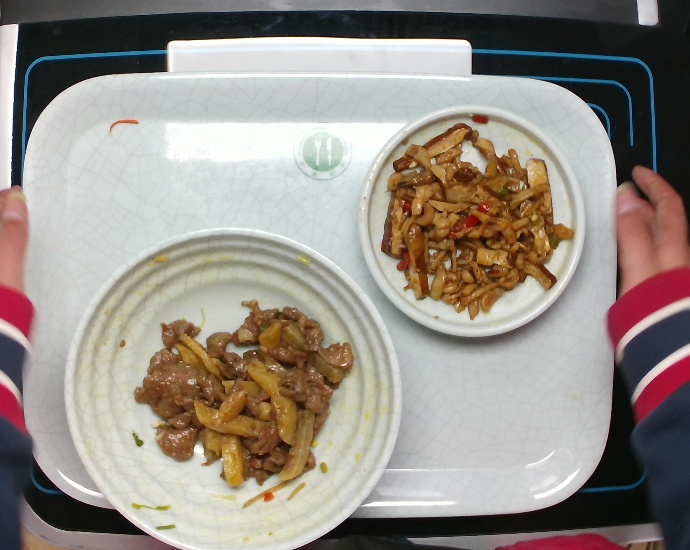JYsf-Da_Tang_Wan: (58, 220, 406, 550)
JYsf-Xiao_Yuan_Pan: (353, 100, 591, 343)
